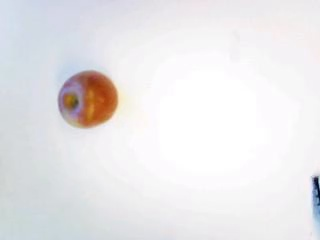apple: (56, 68, 119, 128)
